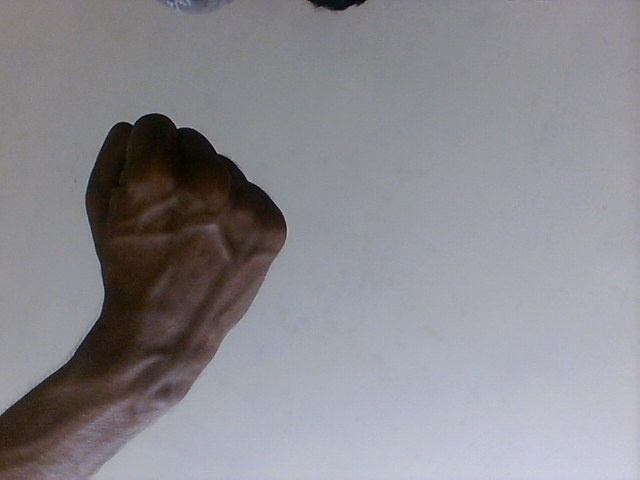hand: (79, 110, 291, 384)
